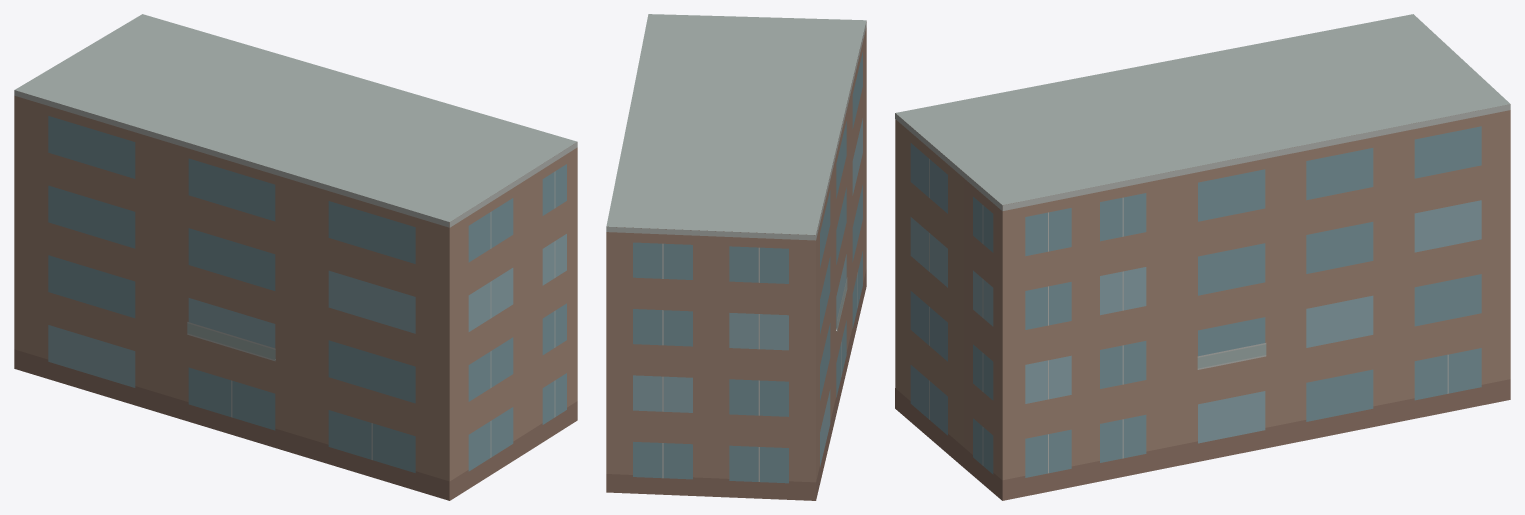
File: survey-upis-33042746.glb
3 renders of one model, left to right at view 1: azimuth 30°, elevation 25°; view 2: azimuth 150°, elevation 25°; view 3: azimuth 270°, elevation 25°, orthographic. The views are drawn at different scales.
Visible parts, largest first — view 1: survey-upis-33042746.tmp; view 2: survey-upis-33042746.tmp; view 3: survey-upis-33042746.tmp.
Boxes of the visible parts, x1,y1,x2,y2 form: survey-upis-33042746.tmp: (14, 14, 577, 500); survey-upis-33042746.tmp: (606, 14, 866, 500); survey-upis-33042746.tmp: (895, 14, 1510, 500).
Bounding box in the file's own units: 16.79 × 12.1 × 22.84.
